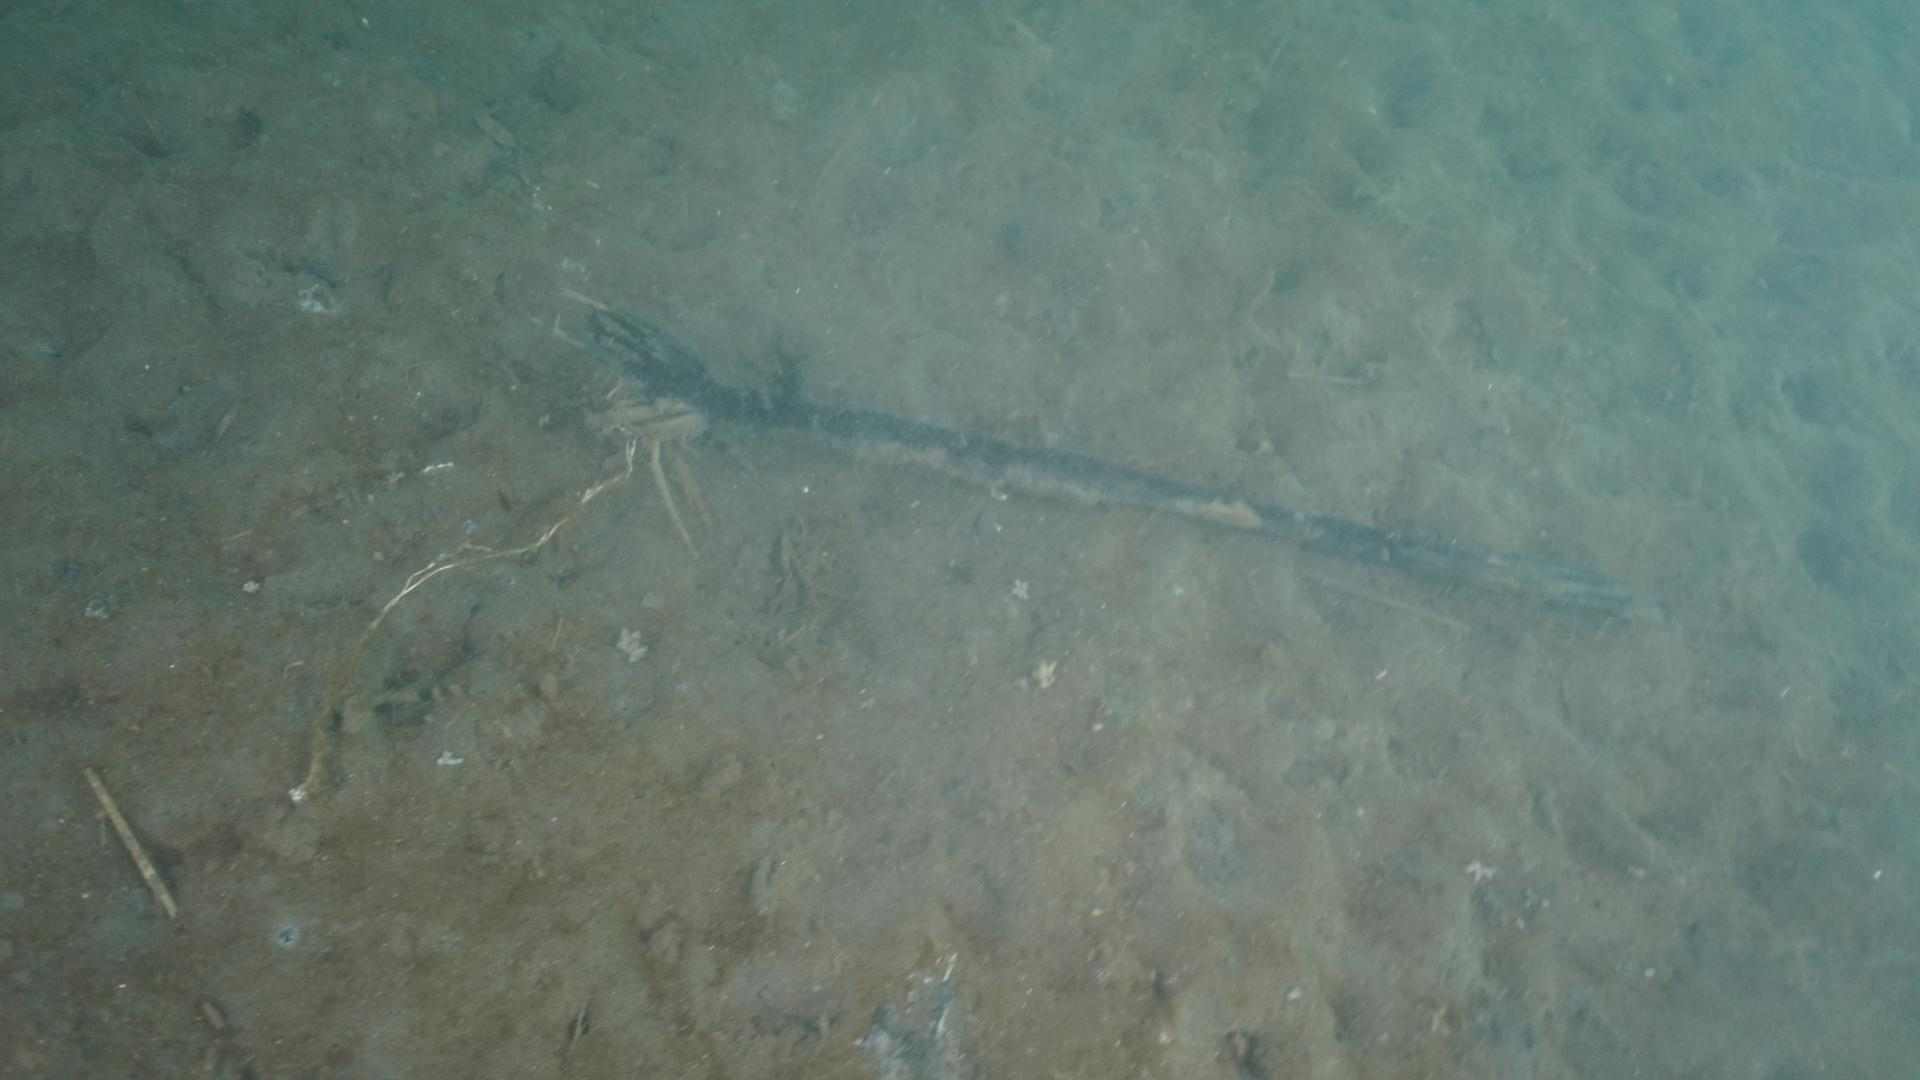wood: (549, 284, 1636, 618)
